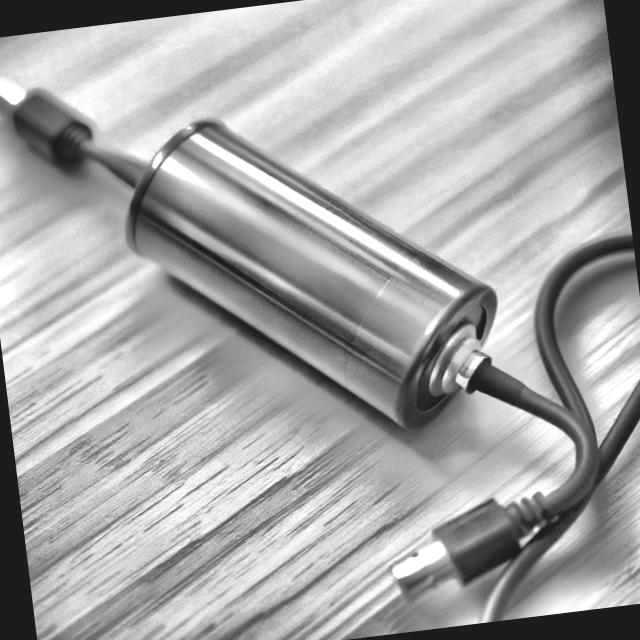Battery: (128, 113, 501, 429)
Cable: (359, 234, 640, 632)
